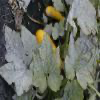Squash Powdery mildew leaf: (0, 22, 39, 92), (63, 28, 96, 89), (33, 32, 63, 92), (66, 0, 98, 32)
